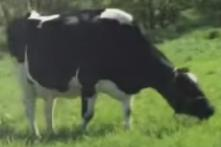cow: (23, 7, 216, 137)
